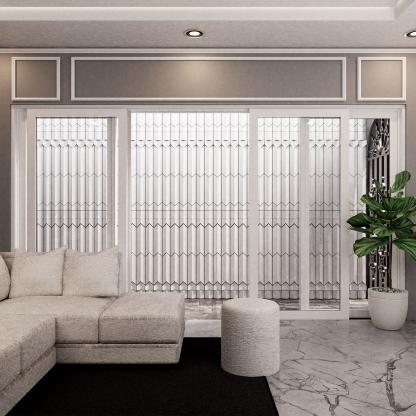sova: (1, 242, 188, 413)
tanaman: (354, 169, 416, 335)
